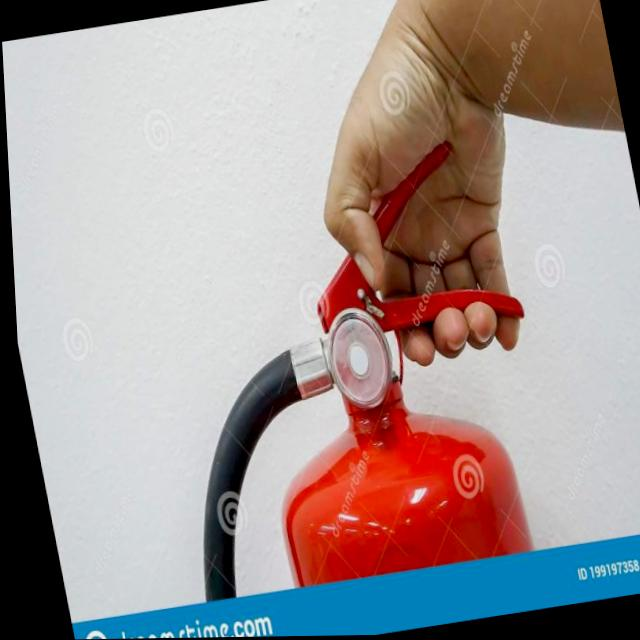FireExtinguisher: (110, 121, 566, 608)
